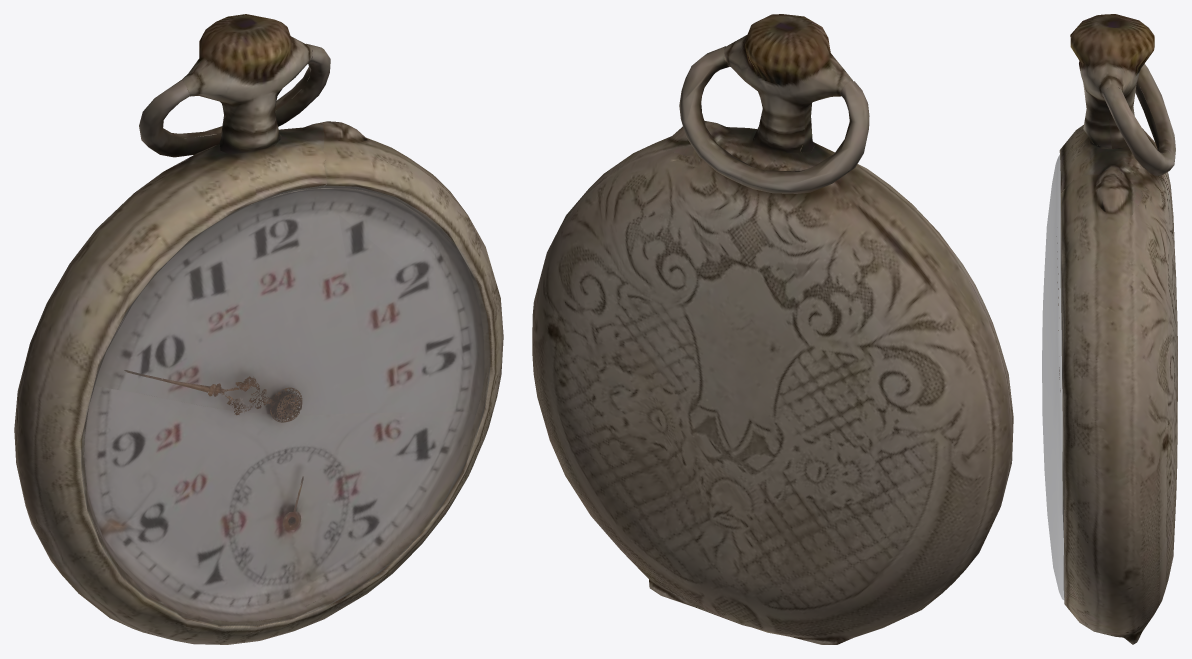
Rendered from coti_joachim_liebermann_s_pocket.glb.
3 renders of one model, left to right at view 1: azimuth 30°, elevation 25°; view 2: azimuth 150°, elevation 25°; view 3: azimuth 270°, elevation 25°, orthographic. The views are drawn at different scales.
Parts seen in each view (by area): view 1: Object_10; view 2: Object_10; view 3: Object_10.
Boxes of the visible parts, box(x1,y1,x2,y2) form: Object_10: box(14, 14, 503, 644); Object_10: box(532, 14, 1013, 644); Object_10: box(1042, 14, 1177, 644).
Size of the model in its own units: 0.0482 by 0.06 by 0.0126.
Materials: 3 (2 with a texture image).
